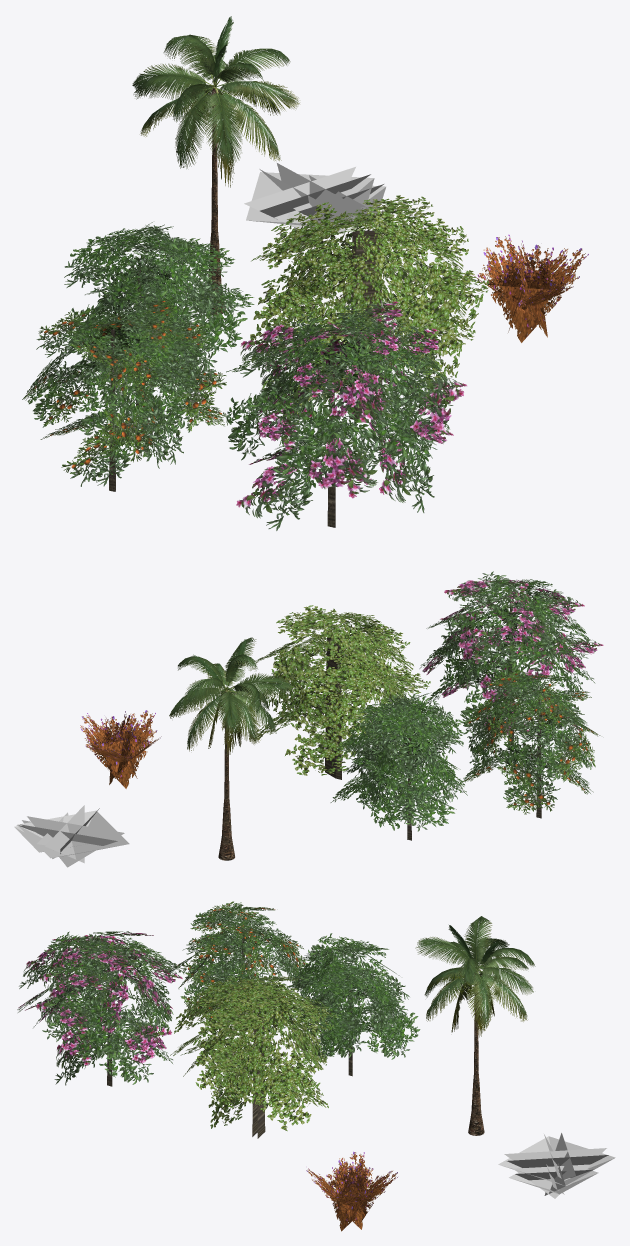
File: shu.FBX
The picture shows the model from 3 angles, top to bottom: view 1: azimuth 30°, elevation 25°; view 2: azimuth 150°, elevation 25°; view 3: azimuth 270°, elevation 25°; orthographic projection. The views are drawn at different scales.
Parts seen in each view (by area): view 1: tree_010, tree_002, tree_003, tree_006, tree_009, huang, hong; view 2: tree_002, tree_010, tree_006, tree_003, tree_009, huang, hong; view 3: tree_002, tree_010, tree_006, tree_009, tree_003, huang, hong.
Boxes of the visible parts, <box> form: tree_010: <box>226,301,466,530</box>; tree_002: <box>250,195,489,419</box>; tree_003: <box>22,298,229,491</box>; tree_006: <box>64,222,254,405</box>; tree_009: <box>132,16,299,314</box>; huang: <box>244,163,385,237</box>; hong: <box>472,234,588,342</box>; tree_002: <box>245,605,430,779</box>; tree_010: <box>419,571,603,745</box>; tree_006: <box>330,692,467,840</box>; tree_003: <box>462,670,600,818</box>; tree_009: <box>169,637,294,860</box>; huang: <box>14,805,129,867</box>; hong: <box>80,710,161,788</box>; tree_002: <box>170,976,338,1138</box>; tree_010: <box>17,931,187,1086</box>; tree_006: <box>282,933,420,1076</box>; tree_009: <box>415,916,535,1135</box>; tree_003: <box>169,901,309,1036</box>; huang: <box>498,1133,615,1198</box>; hong: <box>306,1151,397,1231</box>.
Bounding box in the file's own units: 27.18 × 30.71 × 12.39.
